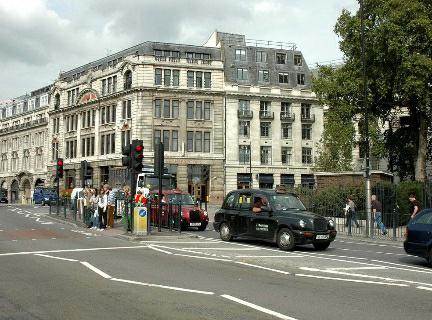吉利汽车-英伦TX4: (212, 184, 343, 252)
